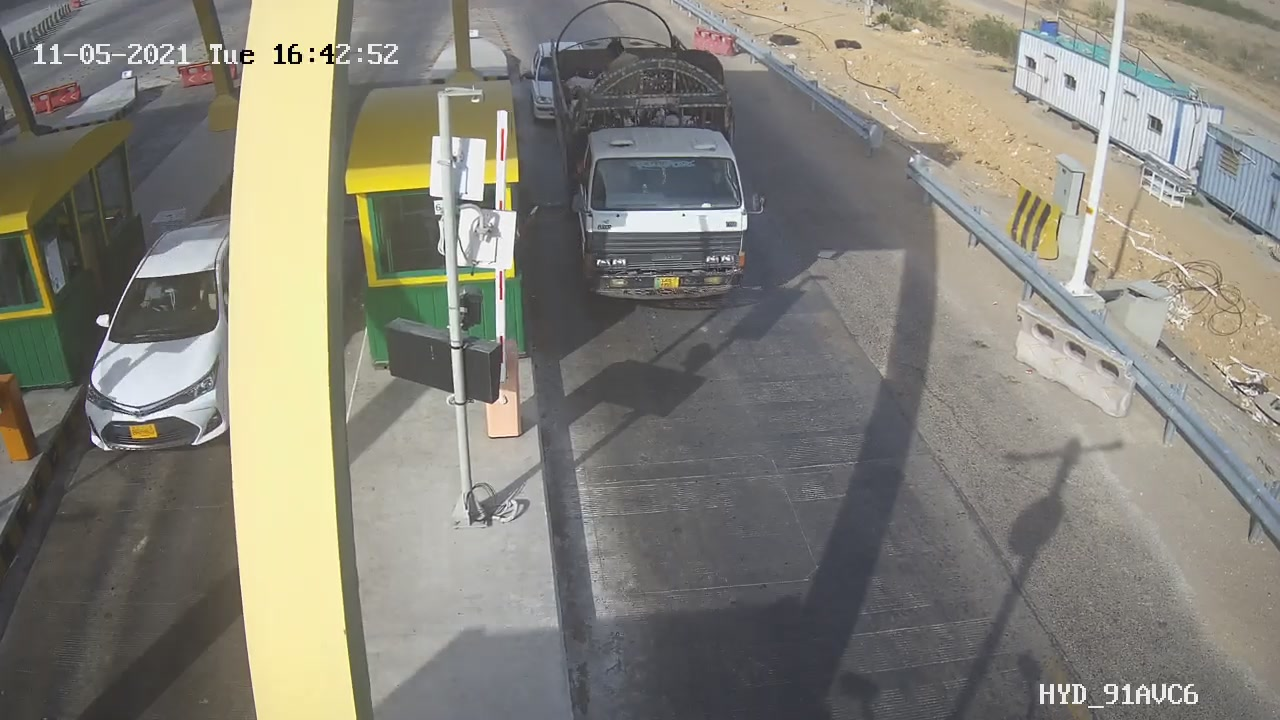F5: (530, 1, 790, 324)
